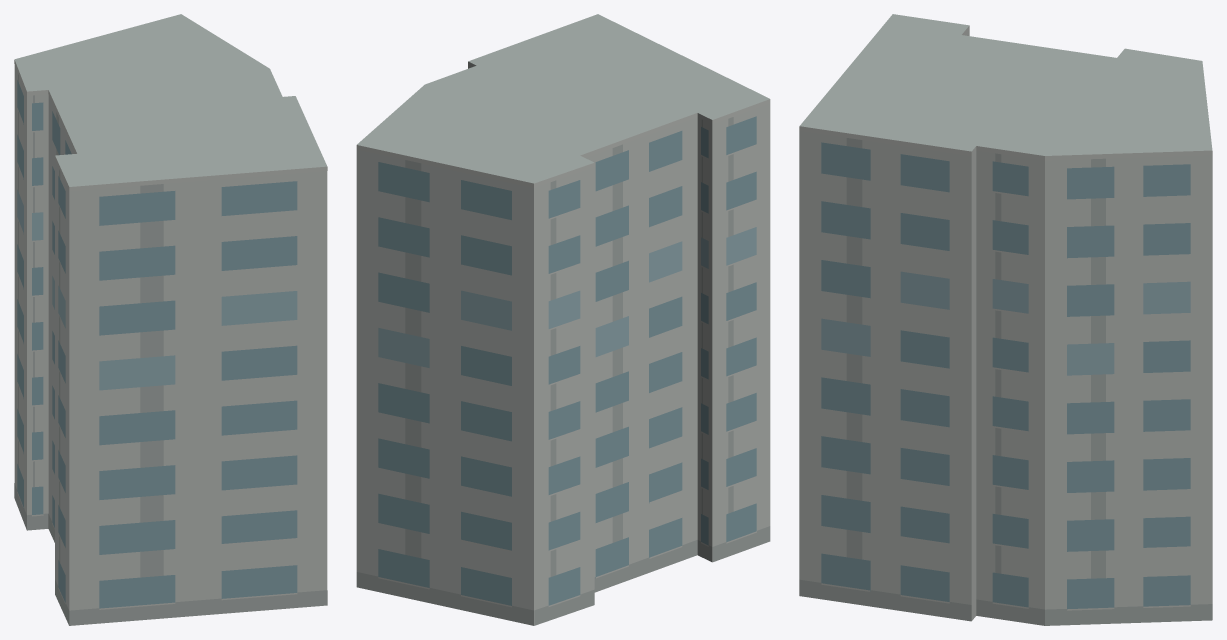
Rendered from survey-upis-32942146.glb.
3 views of the same model, side by side, from view 1: azimuth 30°, elevation 25°; view 2: azimuth 150°, elevation 25°; view 3: azimuth 270°, elevation 25° (orthographic). The views are drawn at different scales.
Parts seen in each view (by area): view 1: survey-upis-32942146.tmp; view 2: survey-upis-32942146.tmp; view 3: survey-upis-32942146.tmp.
Part boxes in pixels (bbox=[...]): survey-upis-32942146.tmp: bbox=[14, 14, 327, 625]; survey-upis-32942146.tmp: bbox=[356, 14, 770, 625]; survey-upis-32942146.tmp: bbox=[799, 14, 1212, 625].
Size of the model in its own units: 15.83 by 24.4 by 19.45.
